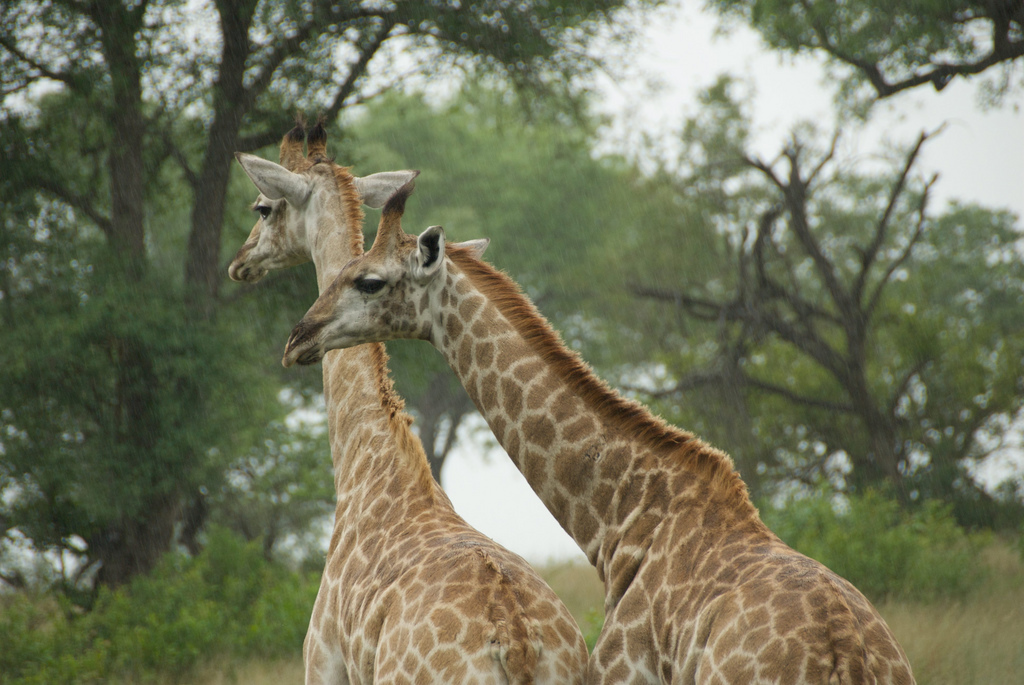giraffe: (306, 226, 908, 675), (209, 128, 536, 682)
